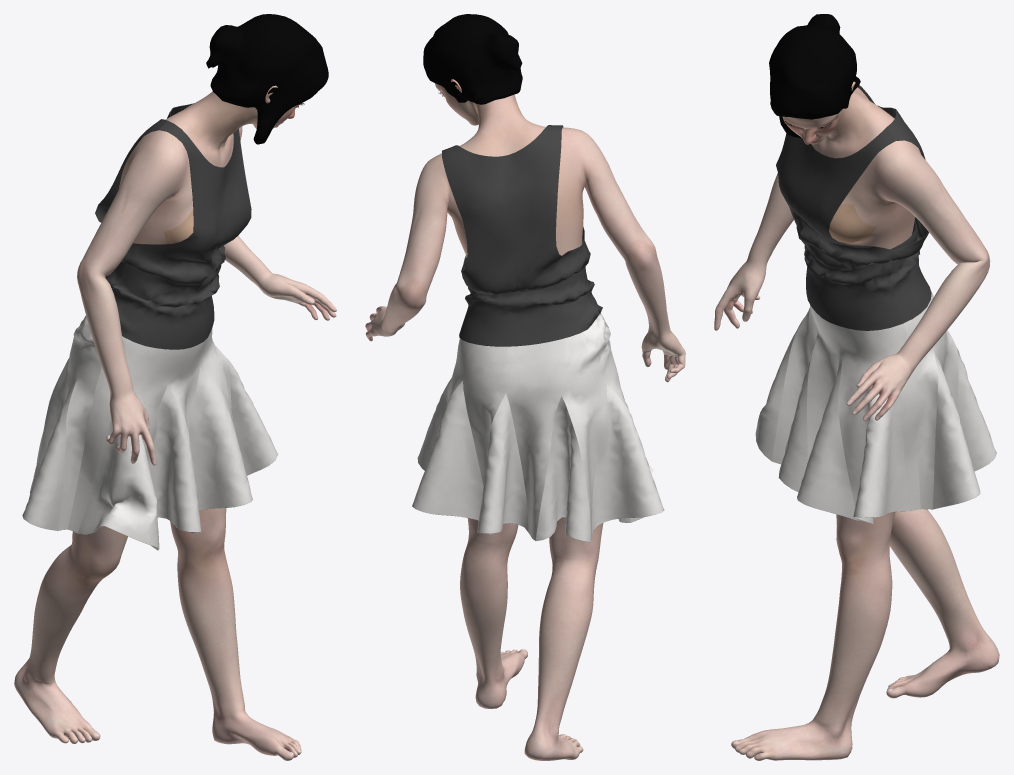
Rendered from Custom_View_8__random.obj.
3 views of the same model, side by side, from view 1: azimuth 30°, elevation 25°; view 2: azimuth 150°, elevation 25°; view 3: azimuth 270°, elevation 25° (orthographic). The views are drawn at different scales.
Bounding box in the file's own units: 757 × 1681 × 585.
